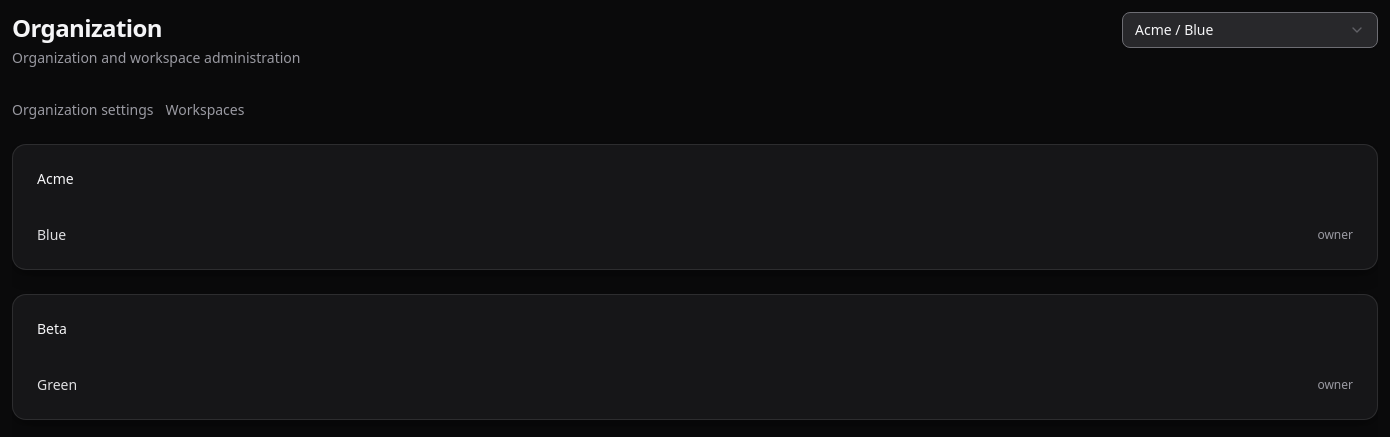
Scenario: WorkspaceScopeLayout › switches workspace via the switcher and updates the URL scope
The width and height of the screenshot is (1390, 437).
Click the dropdown named "Select workspace".
click(1250, 30)  # box x1=1122 y1=12 x2=1378 y2=48
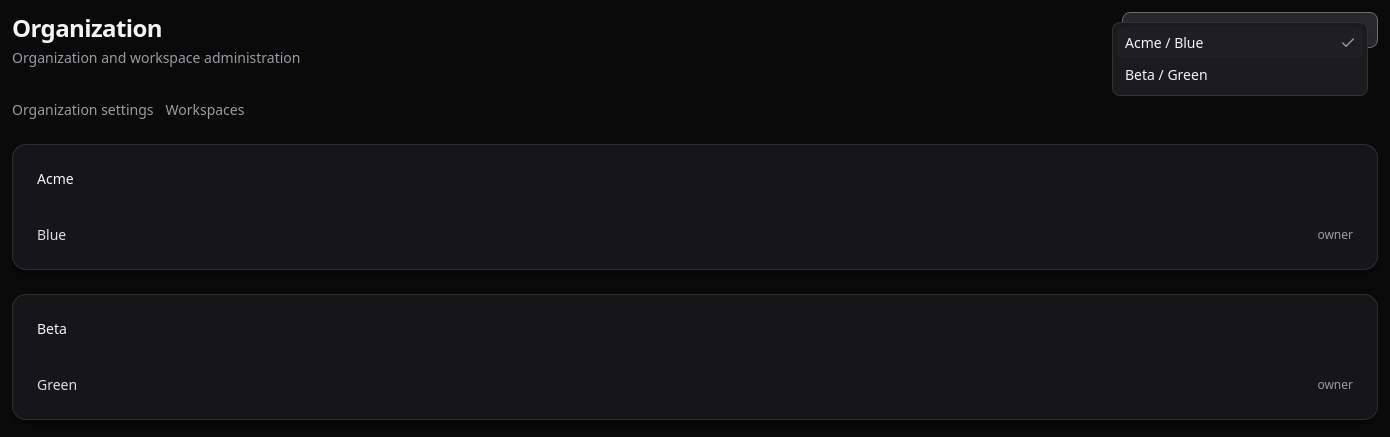
Click the option "Beta / Green".
click(1166, 74)  # box x1=1125 y1=65 x2=1208 y2=84
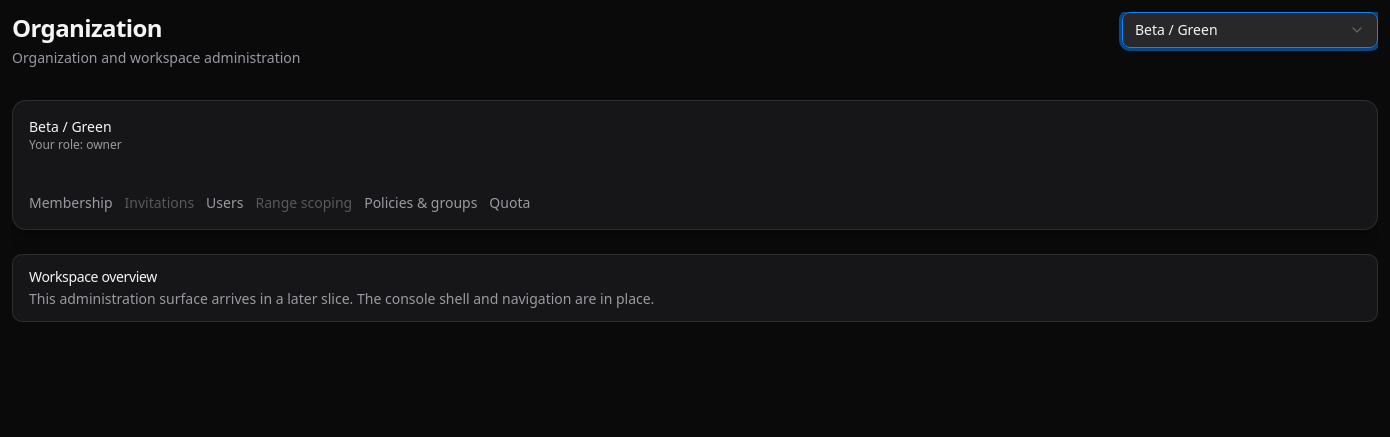
Result: the heading "Beta / Green" is shown at x1=29 y1=117 x2=122 y2=137
